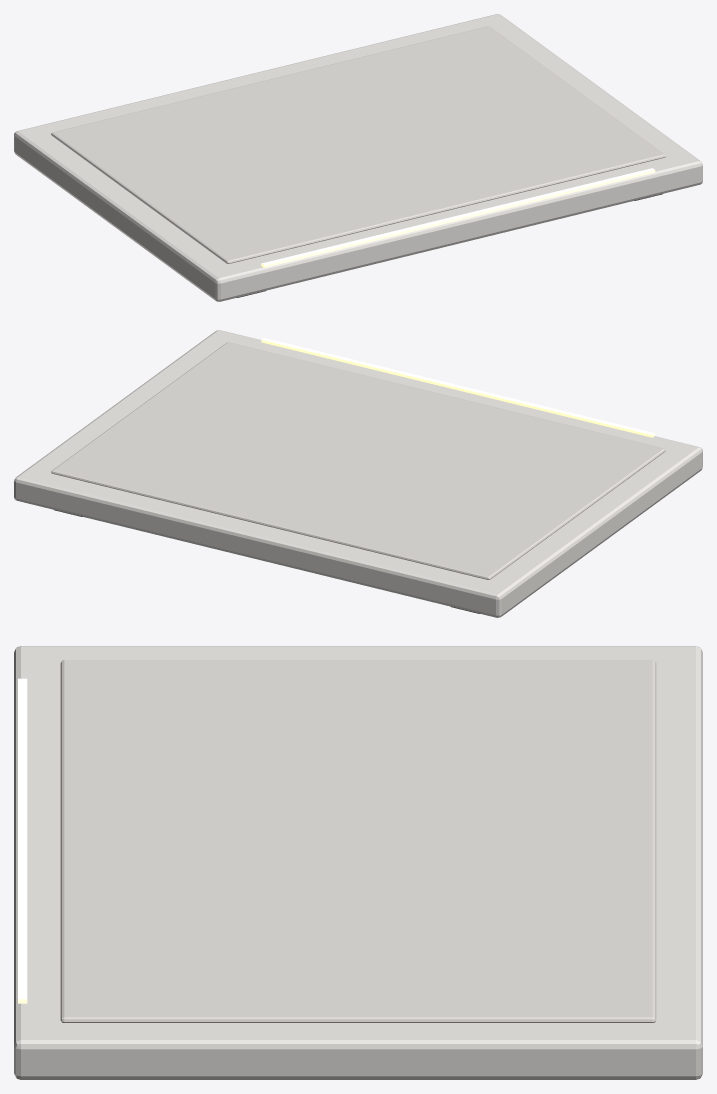
Rendered from topo_site.glb.
3 renders of one model, top to bottom at view 1: azimuth 30°, elevation 25°; view 2: azimuth 150°, elevation 25°; view 3: azimuth 270°, elevation 25°, orthographic. The views are drawn at different scales.
Visible parts, largest first — view 1: TOPO_SITE; view 2: TOPO_SITE; view 3: TOPO_SITE.
Part boxes in pixels (box(x1,y1,x2,y2)): TOPO_SITE: box(14, 14, 702, 301); TOPO_SITE: box(14, 330, 702, 617); TOPO_SITE: box(14, 646, 702, 1079).
Size of the model in its own units: 1.62 by 0.1135 by 1.18.
